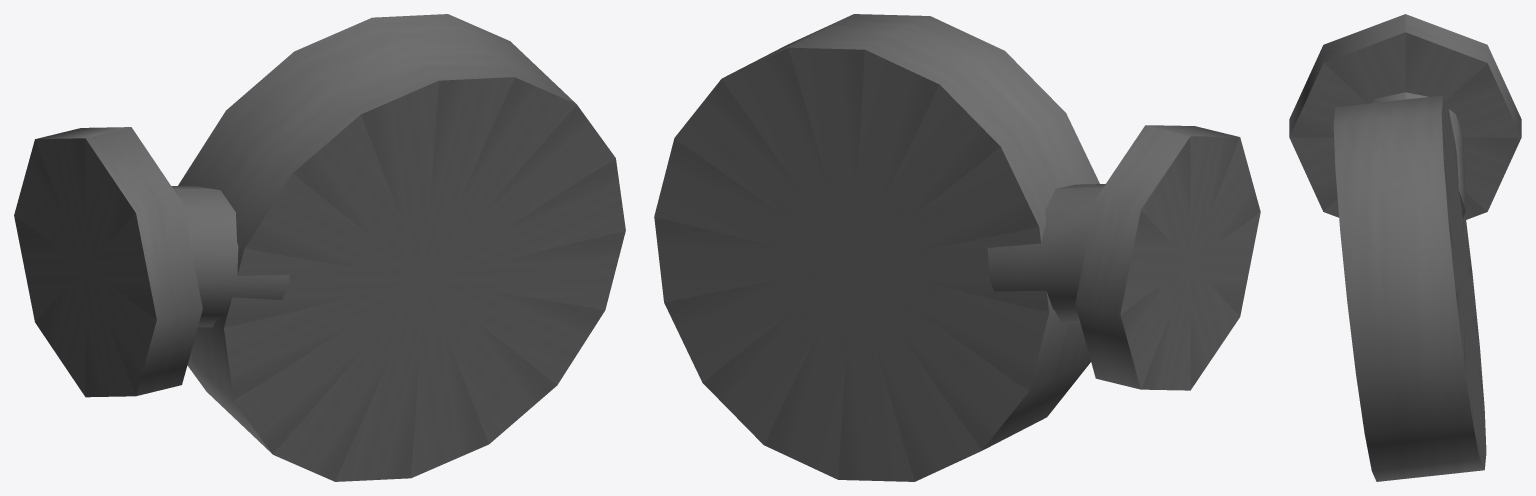
File: mastarmcurve_5x1_c4_west.obj
3 renders of one model, left to right at view 1: azimuth 30°, elevation 25°; view 2: azimuth 150°, elevation 25°; view 3: azimuth 270°, elevation 25°, orthographic. The views are drawn at different scales.
Parts seen in each view (by area): view 1: mastarm_5x1_c4_west; view 2: mastarm_5x1_c4_west; view 3: mastarm_5x1_c4_west.
Boxes of the visible parts, x1,y1,x2,y2 form: mastarm_5x1_c4_west: [14, 14, 625, 481]; mastarm_5x1_c4_west: [654, 14, 1260, 481]; mastarm_5x1_c4_west: [1289, 14, 1521, 481].
Bounding box in the file's own units: 0.8243 × 0.6674 × 0.4.
